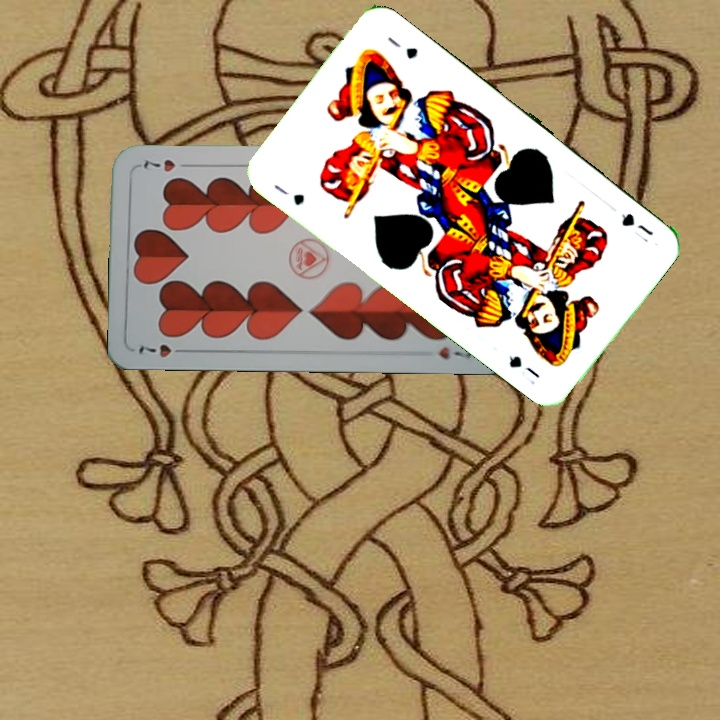GU: (269, 179, 308, 209), (616, 209, 656, 238)
H7: (134, 340, 191, 361)
